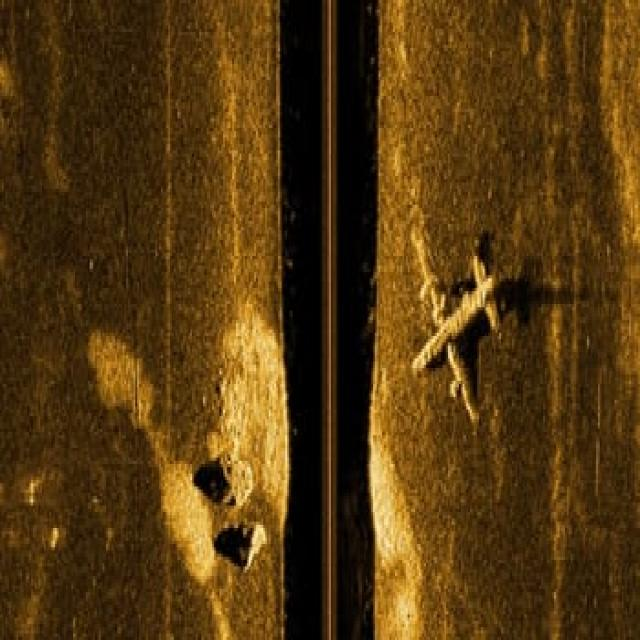plane: (386, 182, 521, 458)
